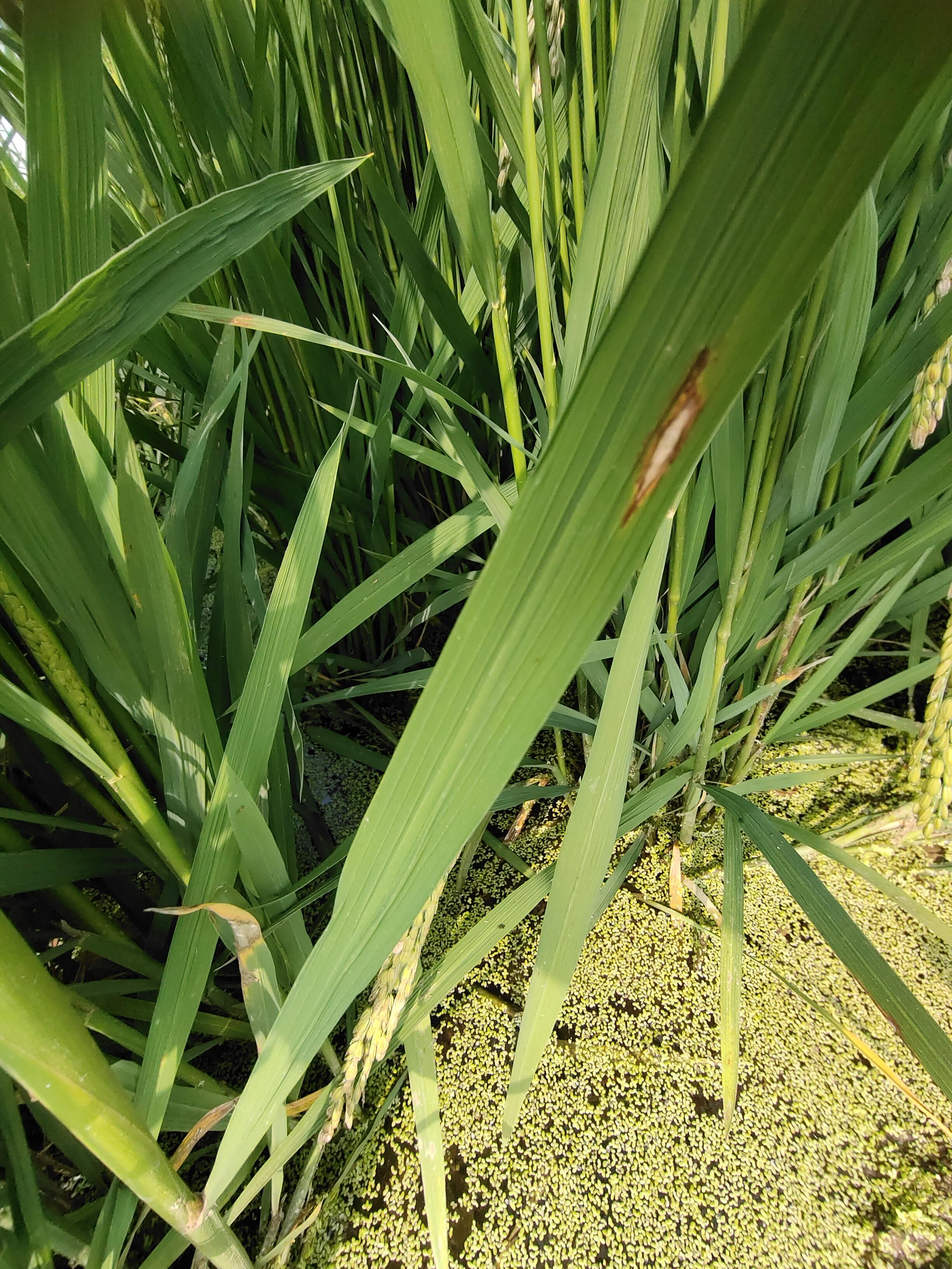LEAF: (202, 0, 952, 1218)
LEAF BLAST: (622, 348, 709, 525)
